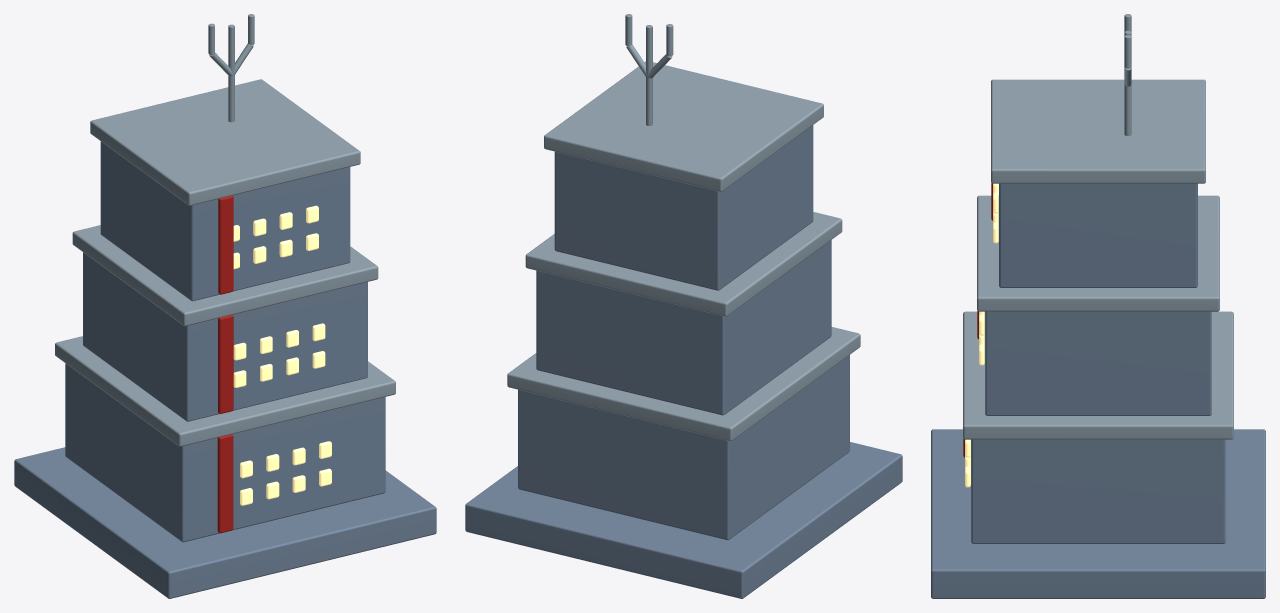
3 views of the same model, side by side, from view 1: azimuth 30°, elevation 25°; view 2: azimuth 150°, elevation 25°; view 3: azimuth 270°, elevation 25° (orthographic). The views are drawn at different scales.
Visible parts, largest first — view 1: Modular block storey, Modular block storey.001, Foundation slab, Modular block storey.002, Block roof ledge.002, Block roof ledge, Block roof ledge.001, Vertical block colour strip, Vertical block colour strip.002, Vertical block colour strip.001, Aerial stem; view 2: Modular block storey, Modular block storey.001, Foundation slab, Modular block storey.002, Block roof ledge.002, Block roof ledge, Block roof ledge.001, Aerial stem; view 3: Foundation slab, Modular block storey, Modular block storey.001, Block roof ledge.002, Modular block storey.002, Block roof ledge, Block roof ledge.001.
Boxes of the visible parts, x1,y1,x2,y2 form: Modular block storey: [65, 363, 385, 542]; Modular block storey.001: [83, 252, 367, 421]; Foundation slab: [14, 447, 436, 598]; Modular block storey.002: [100, 141, 350, 301]; Block roof ledge.002: [90, 79, 360, 205]; Block roof ledge: [55, 336, 395, 446]; Block roof ledge.001: [72, 225, 378, 326]; Vertical block colour strip: [217, 434, 233, 533]; Vertical block colour strip.002: [218, 195, 233, 294]; Vertical block colour strip.001: [218, 315, 233, 413]; Aerial stem: [228, 24, 234, 122]; Modular block storey: [518, 355, 849, 540]; Modular block storey.001: [536, 240, 831, 415]; Foundation slab: [465, 442, 902, 598]; Modular block storey.002: [554, 125, 813, 290]; Block roof ledge.002: [544, 61, 823, 191]; Block roof ledge: [507, 327, 860, 441]; Block roof ledge.001: [525, 212, 842, 316]; Aerial stem: [646, 25, 652, 125]; Foundation slab: [931, 429, 1265, 598]; Modular block storey: [971, 439, 1225, 543]; Modular block storey.001: [985, 311, 1211, 415]; Block roof ledge.002: [991, 79, 1205, 183]; Modular block storey.002: [999, 183, 1197, 287]; Block roof ledge: [963, 311, 1233, 439]; Block roof ledge.001: [977, 195, 1219, 311].
Bounding box in the file's own units: 2.04 × 3.45 × 2.04.
